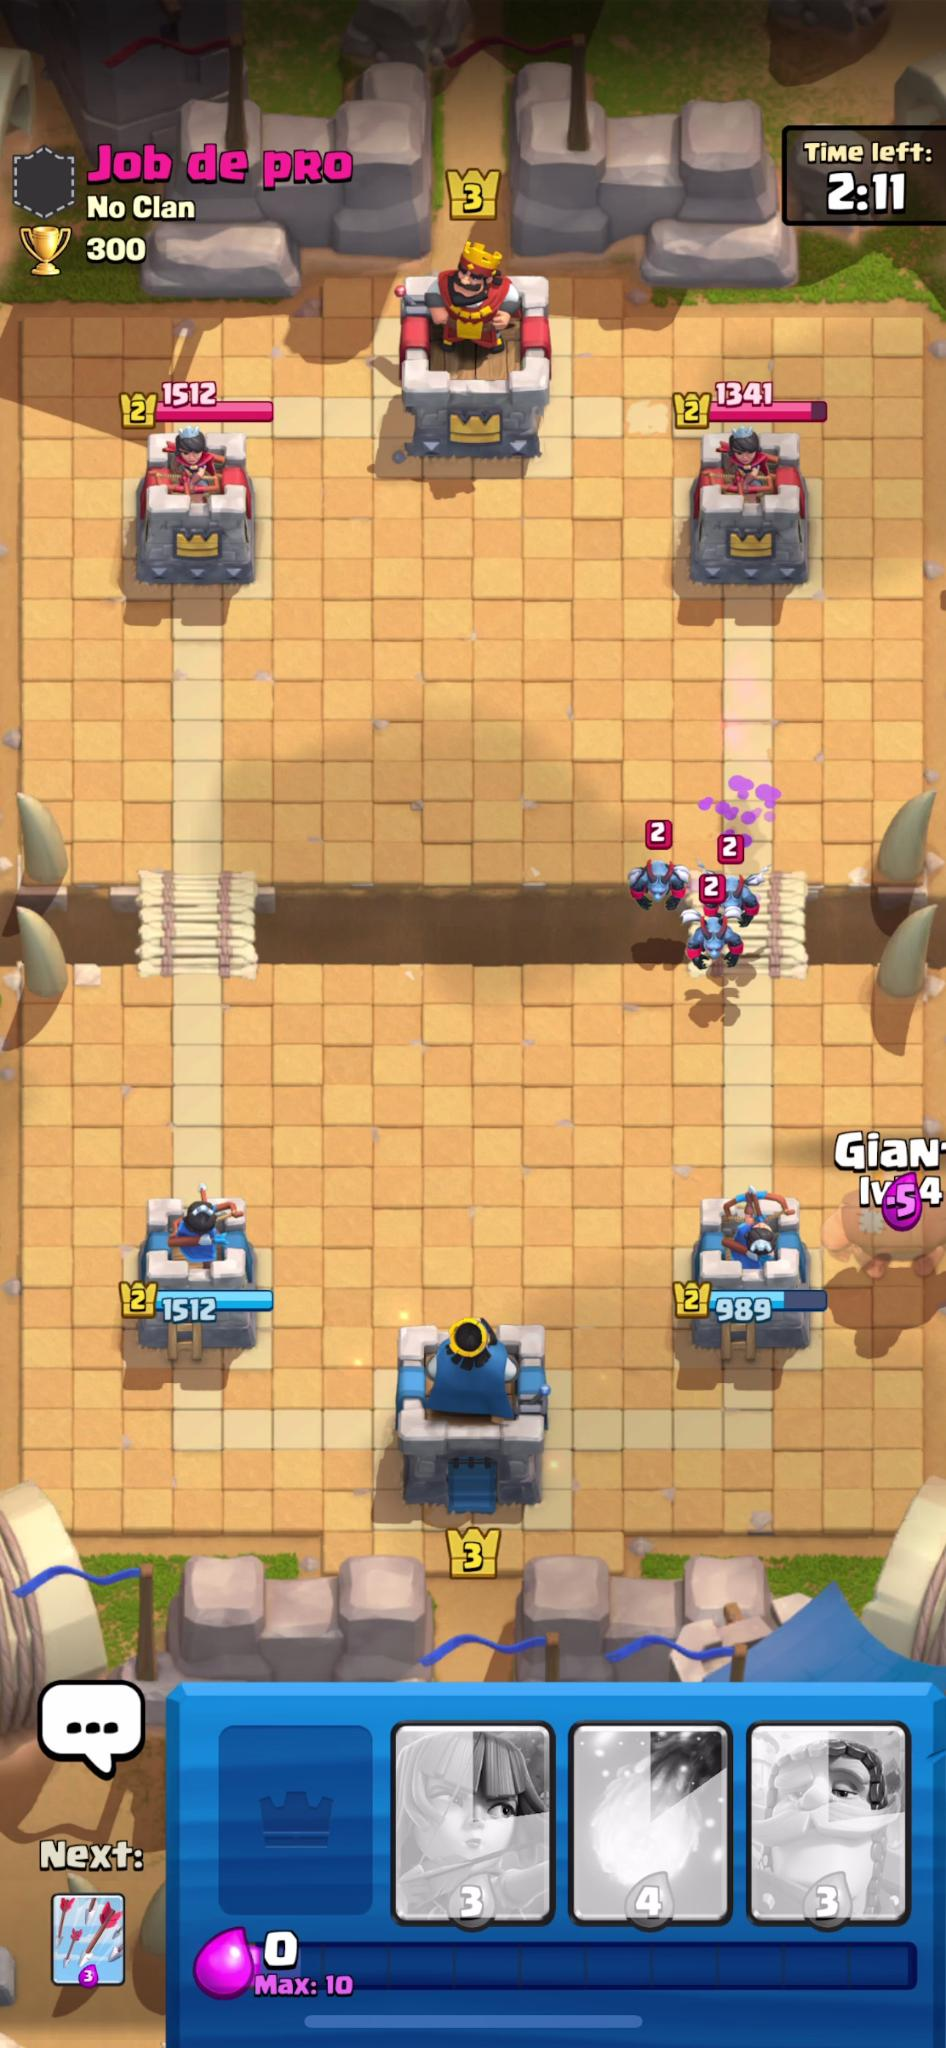gargouille: (707, 858, 779, 939), (627, 852, 689, 923), (685, 910, 741, 980)
